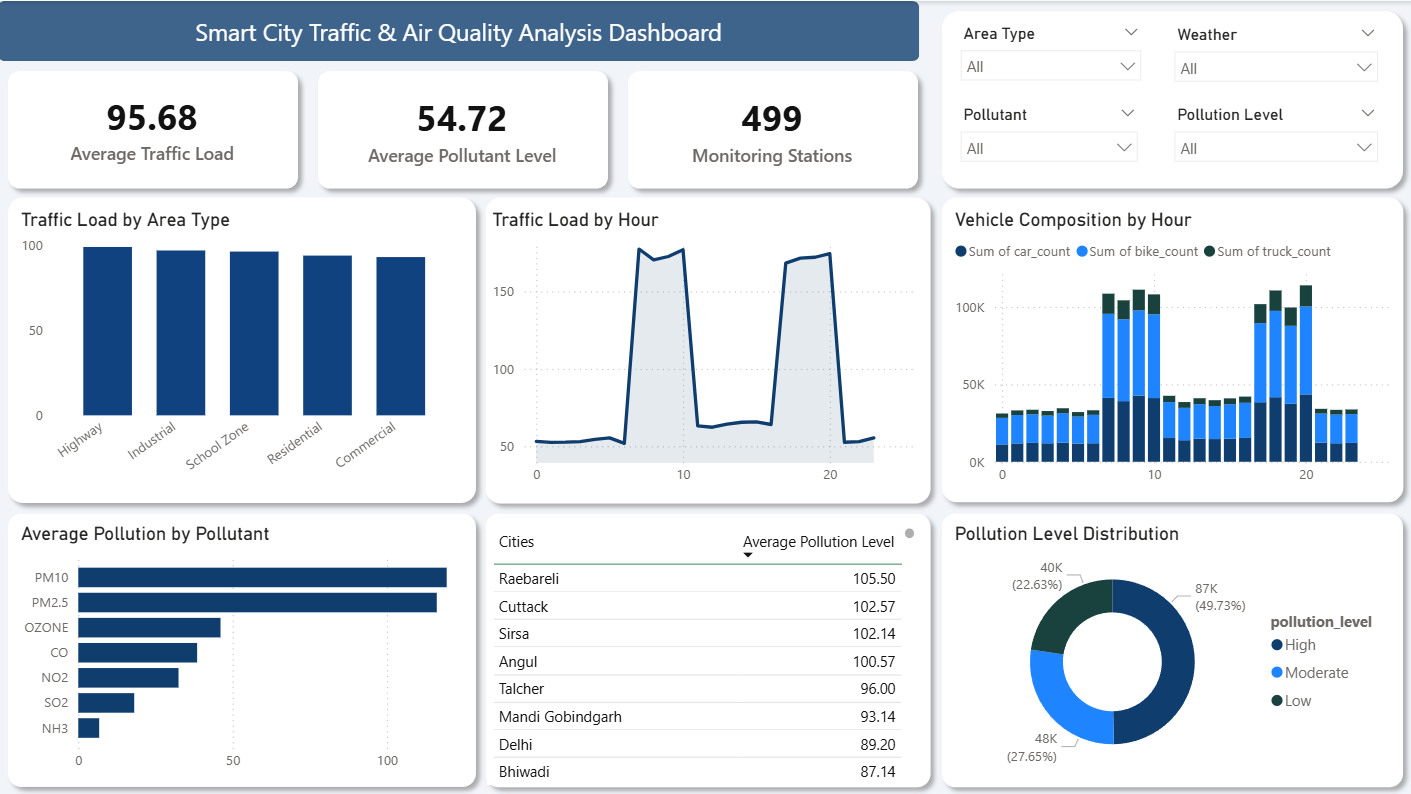

What the dashboard file says about the page in this screenshot:
{"tool":"powerbi","page":{"name":"Home","canvas":[1280,720],"ordinal":0},"visuals":[{"type":"shape","box":[0,0,833.3,54.3],"z":0},{"type":"shape","box":[0,54.3,280.4,124.4],"z":1000},{"type":"shape","box":[844.6,0,435.3,178.6],"z":2000},{"type":"shape","box":[280.4,54.3,280.4,124.4],"z":3000},{"type":"shape","box":[560.8,54.3,280.4,124.4],"z":4000},{"type":"shape","box":[844.4,168.9,435.6,294],"z":5000},{"type":"shape","box":[844.6,454.5,435.3,265.7],"z":6000},{"type":"shape","box":[431.9,168.5,420.6,295.1],"z":7000},{"type":"shape","box":[0,168.7,441.3,294.7],"z":8000},{"type":"shape","box":[0,454.7,441.3,265.3],"z":9000},{"type":"shape","box":[431.9,454.5,420.6,265.7],"z":10000},{"type":"cardVisual","fields":{"Data":["Avg(Traffic_Data.traffic_load)"]},"box":[24.9,69,229.5,93.8],"z":11000},{"type":"cardVisual","fields":{"Data":["Avg(Air_Quality_Data.pollutant_avg)"]},"box":[305.3,70.1,229.5,92.7],"z":12000},{"type":"cardVisual","fields":{"Data":["Count(Air_Quality_Data.station)"]},"box":[585.7,70.1,229.5,92.7],"z":13000},{"type":"clusteredColumnChart","title":"Traffic Load by Area Type","fields":{"Category":["Area_Traffic.area_type"],"Y":["Avg(Area_Traffic.avg_traffic_load)"]},"box":[16.3,187.2,404.7,259.3],"z":13001},{"type":"lineChart","title":"Traffic Load by Hour","fields":{"Category":["Hourly_Traffic.hour"],"Y":["Avg(Hourly_Traffic.avg_traffic_load)"]},"box":[441.9,187.2,391.9,259.3],"z":13002},{"type":"columnChart","title":"Vehicle Composition by Hour","fields":{"Category":["Traffic_Data.hour"],"Y":["Sum(Traffic_Data.car_count)","Sum(Traffic_Data.bike_count)","Sum(Traffic_Data.truck_count)"]},"box":[860.5,187.2,403.5,259.3],"z":13003},{"type":"clusteredBarChart","title":"Average Pollution by Pollutant","fields":{"Category":["Pollutant_Summary.pollutant_id"],"Y":["Avg(Pollutant_Summary.avg_pollution)"]},"box":[16.3,470.9,407,233.7],"z":13004},{"type":"tableEx","title":"Most Polluted Cities","fields":{"Values":["City_Pollution.city","Avg(City_Pollution.avg_pollution)"]},"box":[441.9,470.9,391.9,237.2],"z":13005},{"type":"donutChart","title":"Pollution Level Distribution","fields":{"Category":["Air_Quality_Data.pollution_level"],"Y":["Sum(Air_Quality_Data.pollutant_avg)"]},"box":[860.5,470.9,403.5,233.7],"z":13006},{"type":"slicer","fields":{"Values":["Area_Traffic.area_type"]},"box":[860.5,16.3,183.7,73.3],"z":13007},{"type":"slicer","fields":{"Values":["Traffic_Data.weather"]},"box":[1053.9,16.7,204.4,61.7],"z":13008},{"type":"slicer","fields":{"Values":["Air_Quality_Data.pollutant_id"]},"box":[860.6,89.4,180.6,67.8],"z":13009},{"type":"slicer","fields":{"Values":["Air_Quality_Data.pollution_level"]},"box":[1053.9,89.4,204.4,67.8],"z":13010}]}

Visuals, with their boxes in screenshot pixels (x1, y1, x2, y2), scaled from the page's 1280x720 canvas onto the 1411x794 screenshot:
shape: [x1=0, y1=0, x2=919, y2=60]
shape: [x1=0, y1=60, x2=309, y2=197]
shape: [x1=931, y1=0, x2=1410, y2=197]
shape: [x1=309, y1=60, x2=618, y2=197]
shape: [x1=618, y1=60, x2=927, y2=197]
shape: [x1=931, y1=186, x2=1410, y2=510]
shape: [x1=931, y1=501, x2=1410, y2=793]
shape: [x1=476, y1=186, x2=940, y2=511]
shape: [x1=0, y1=186, x2=486, y2=511]
shape: [x1=0, y1=501, x2=486, y2=793]
shape: [x1=476, y1=501, x2=940, y2=793]
cardVisual - Avg(Traffic_Data.traffic_load): [x1=27, y1=76, x2=280, y2=180]
cardVisual - Avg(Air_Quality_Data.pollutant_avg): [x1=337, y1=77, x2=590, y2=180]
cardVisual - Count(Air_Quality_Data.station): [x1=646, y1=77, x2=899, y2=180]
"Traffic Load by Area Type" clusteredColumnChart: [x1=18, y1=206, x2=464, y2=492]
"Traffic Load by Hour" lineChart: [x1=487, y1=206, x2=919, y2=492]
"Vehicle Composition by Hour" columnChart: [x1=949, y1=206, x2=1393, y2=492]
"Average Pollution by Pollutant" clusteredBarChart: [x1=18, y1=519, x2=467, y2=777]
"Most Polluted Cities" tableEx: [x1=487, y1=519, x2=919, y2=781]
"Pollution Level Distribution" donutChart: [x1=949, y1=519, x2=1393, y2=777]
slicer - Area_Traffic.area_type: [x1=949, y1=18, x2=1151, y2=99]
slicer - Traffic_Data.weather: [x1=1162, y1=18, x2=1387, y2=86]
slicer - Air_Quality_Data.pollutant_id: [x1=949, y1=99, x2=1148, y2=173]
slicer - Air_Quality_Data.pollution_level: [x1=1162, y1=99, x2=1387, y2=173]
